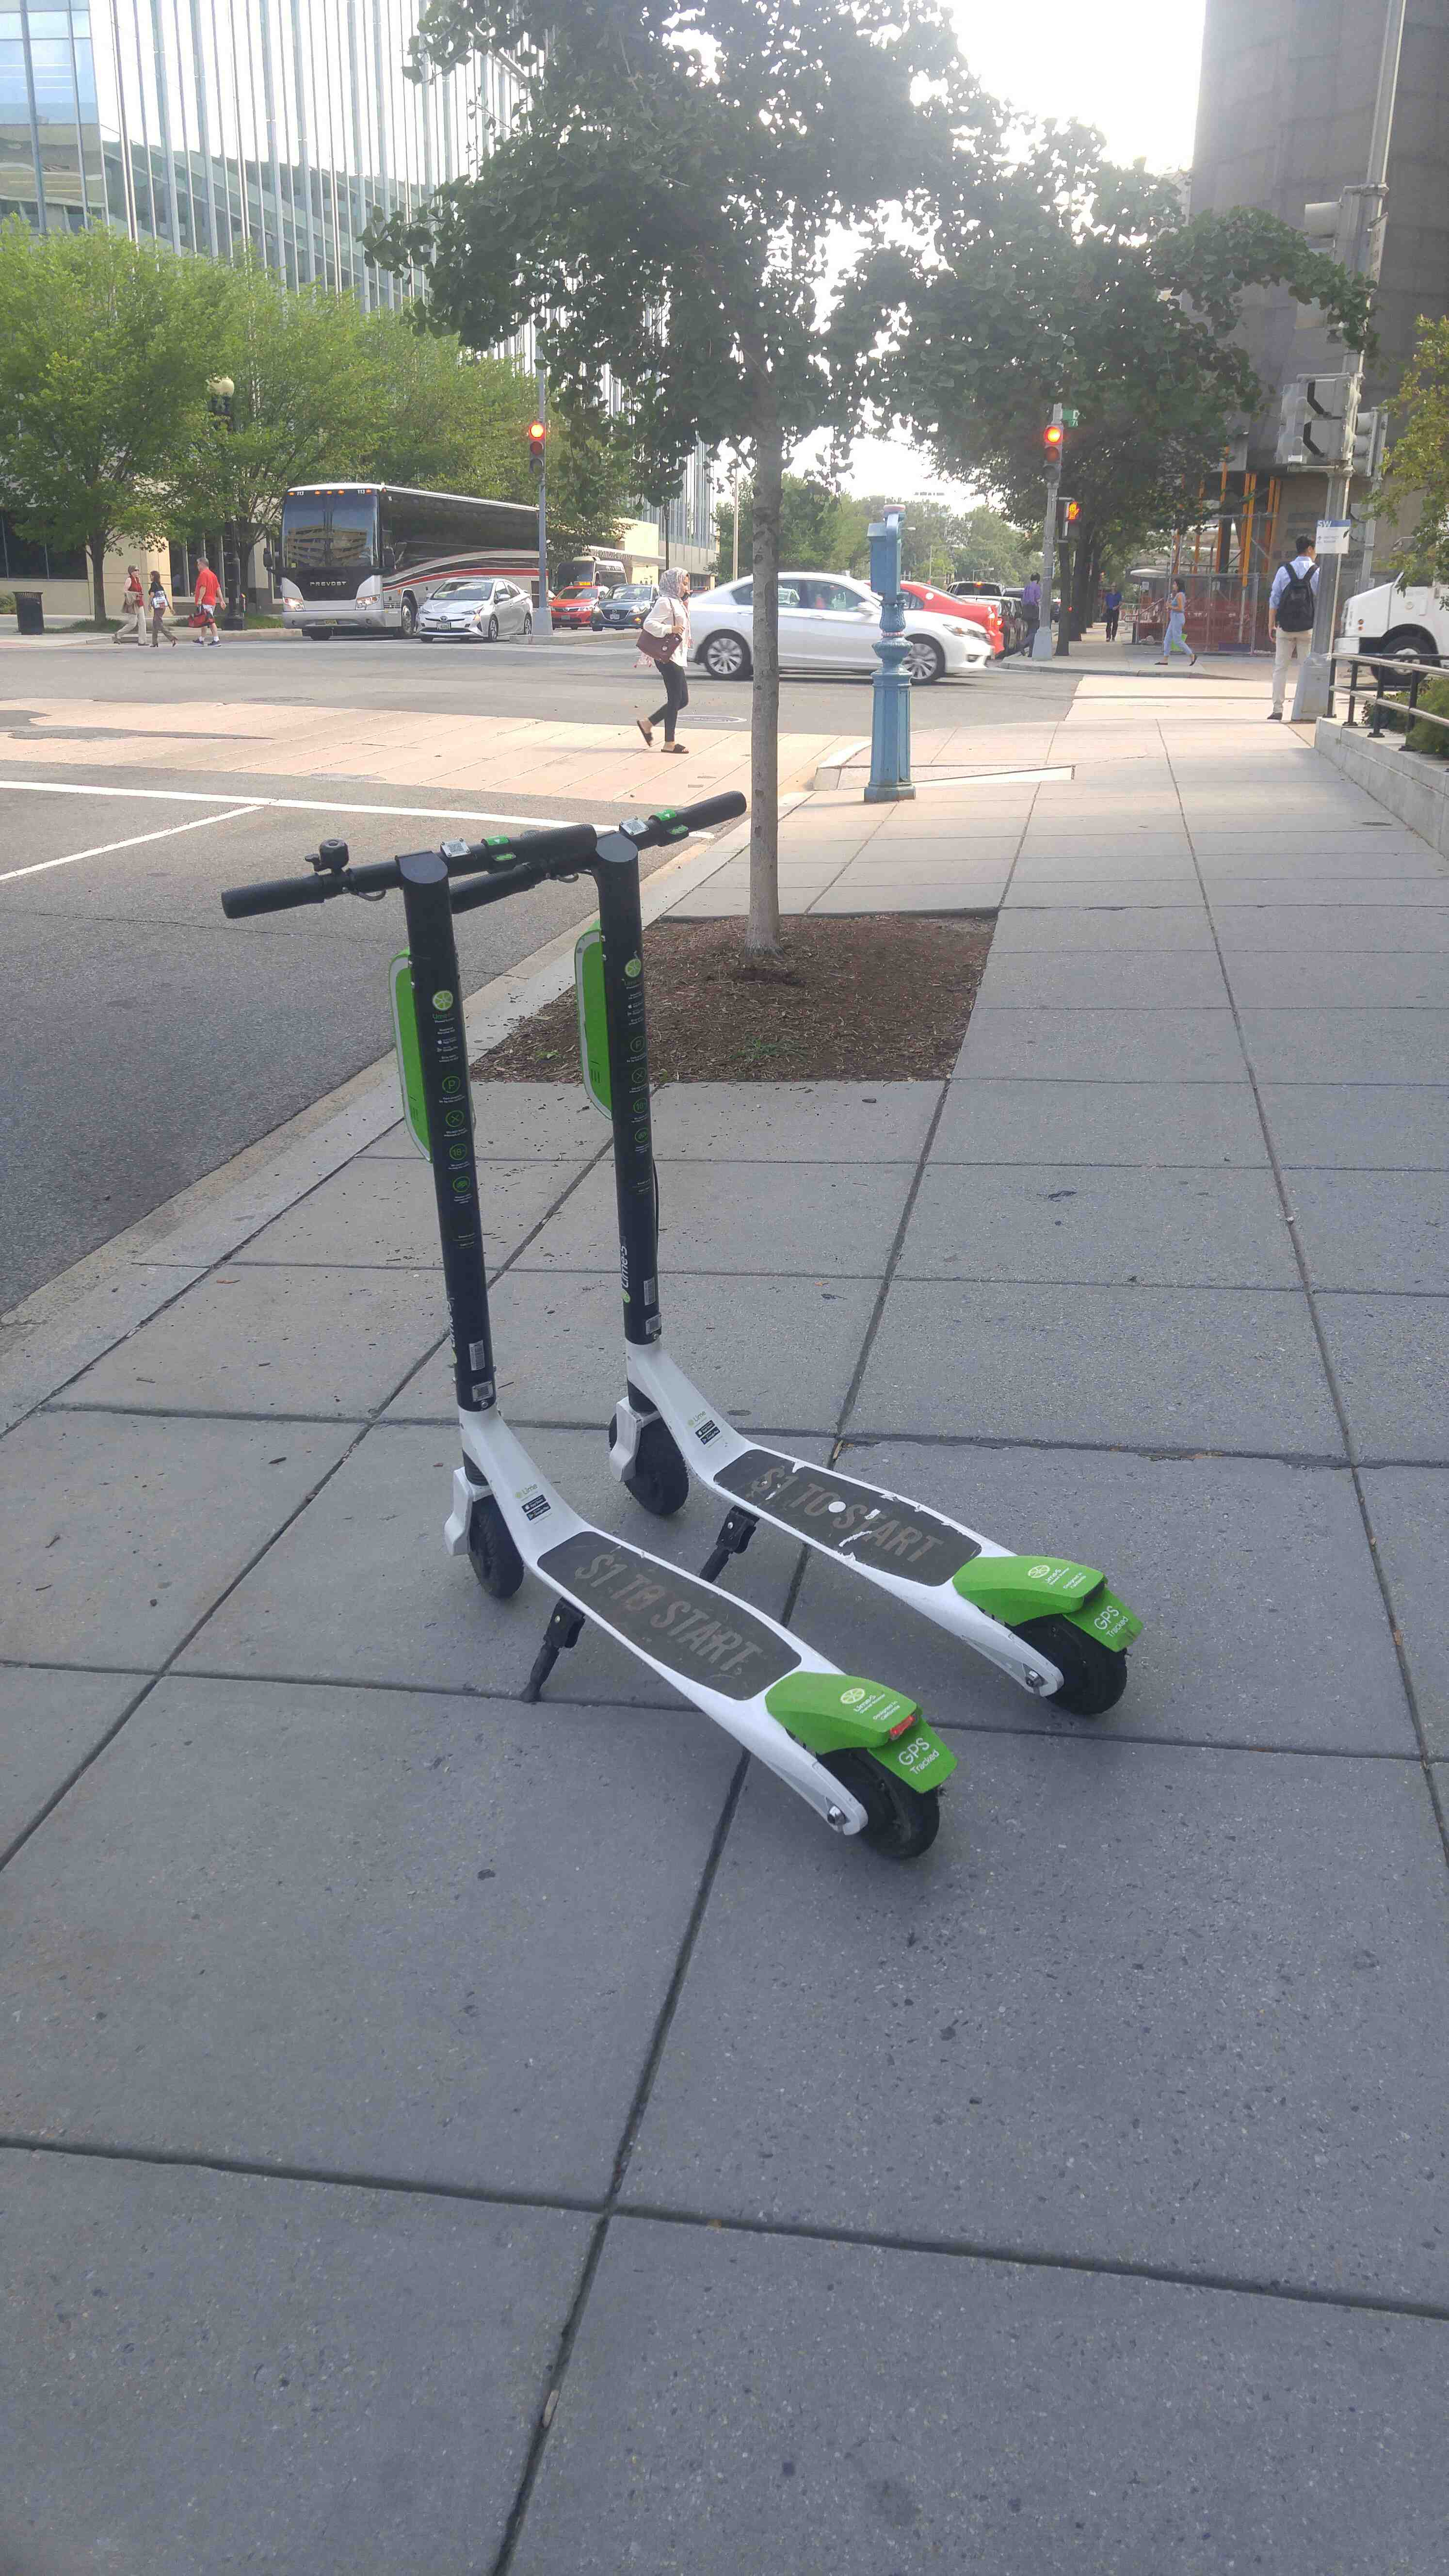scooter: (313, 835, 932, 1874)
